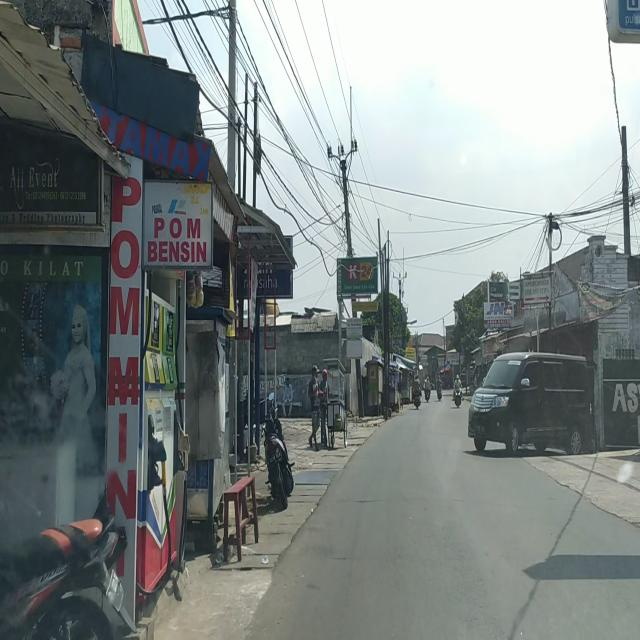Sewer Cover: (351, 499, 398, 506)
